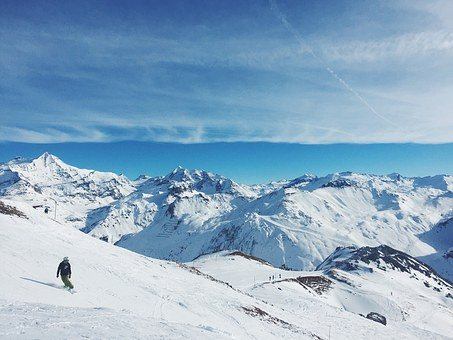mountain: (12, 162, 440, 340)
sky: (6, 1, 448, 139)
